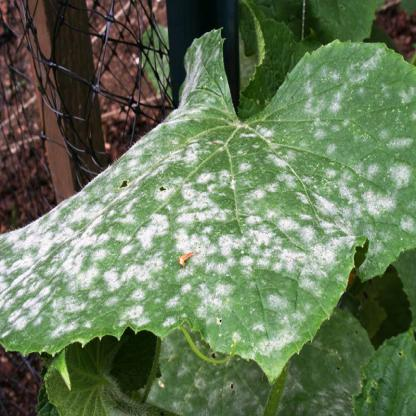squash powdery mildew leaf: (4, 24, 415, 372)
